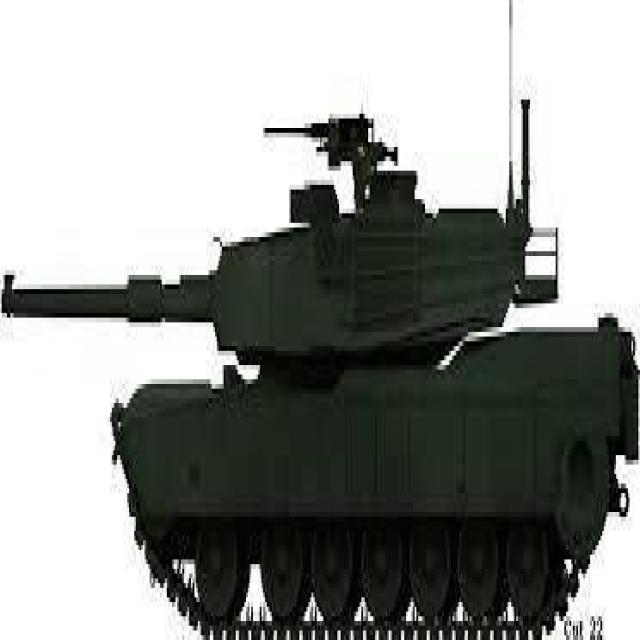Tanks: (7, 92, 618, 618)
